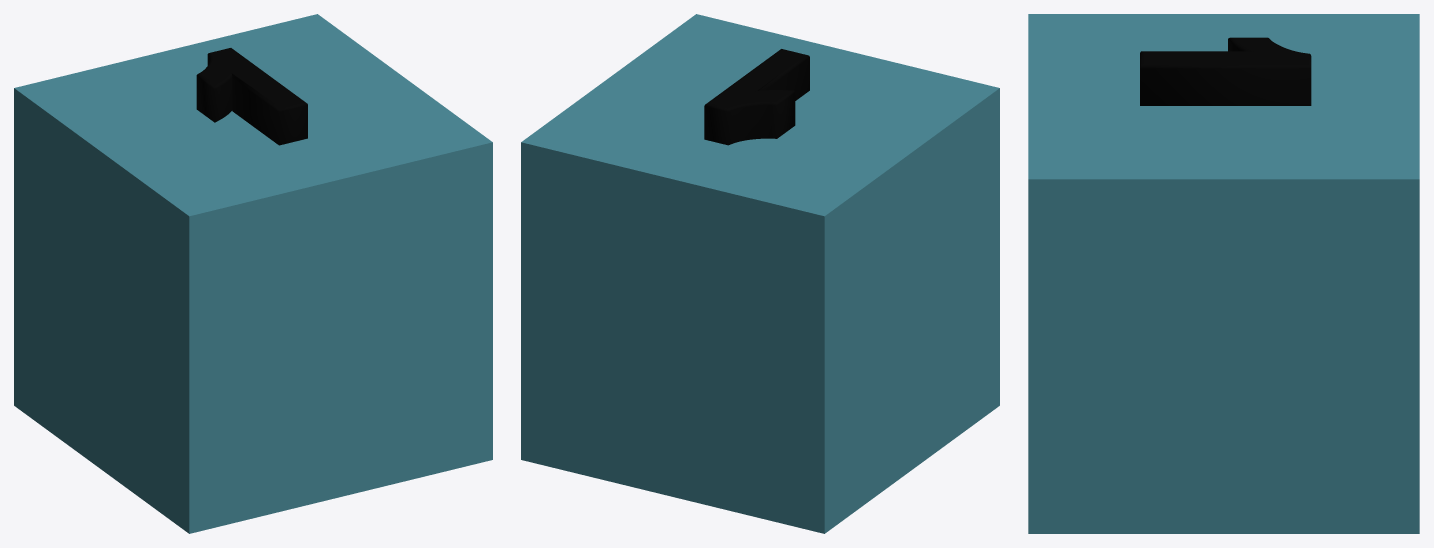
Rendered from level1.fbx.
3 views of the same model, side by side, from view 1: azimuth 30°, elevation 25°; view 2: azimuth 150°, elevation 25°; view 3: azimuth 270°, elevation 25° (orthographic). The views are drawn at different scales.
Parts seen in each view (by area): view 1: Text; view 2: Text; view 3: Text.
Part boxes in pixels (x1,y1,x2,y2): Text: [14, 14, 492, 533]; Text: [521, 14, 999, 533]; Text: [1028, 14, 1419, 533].
Size of the model in its own units: 200 by 223 by 200.
